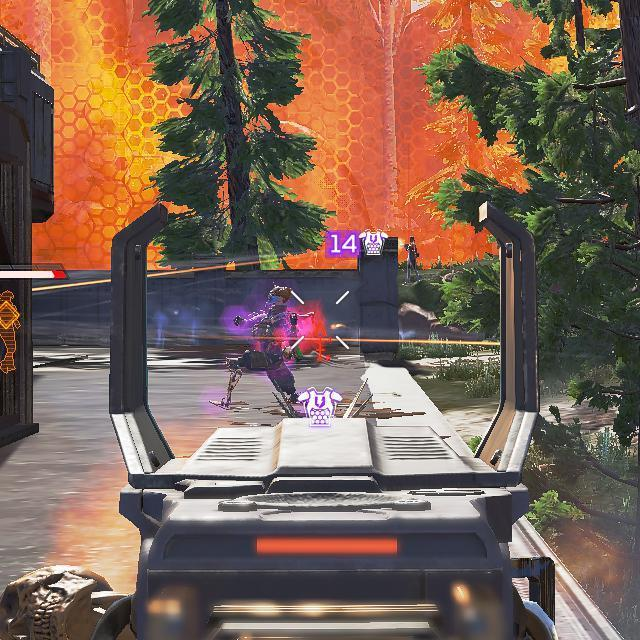avatar: (223, 283, 300, 413)
object: (0, 299, 21, 332)
